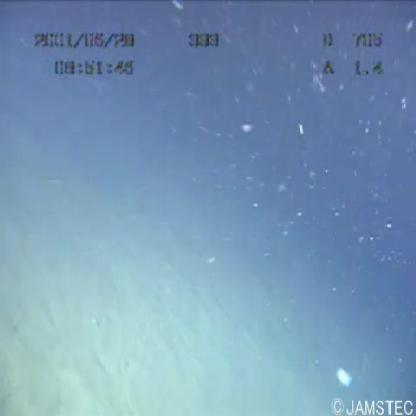Rác: (334, 363, 355, 385)
